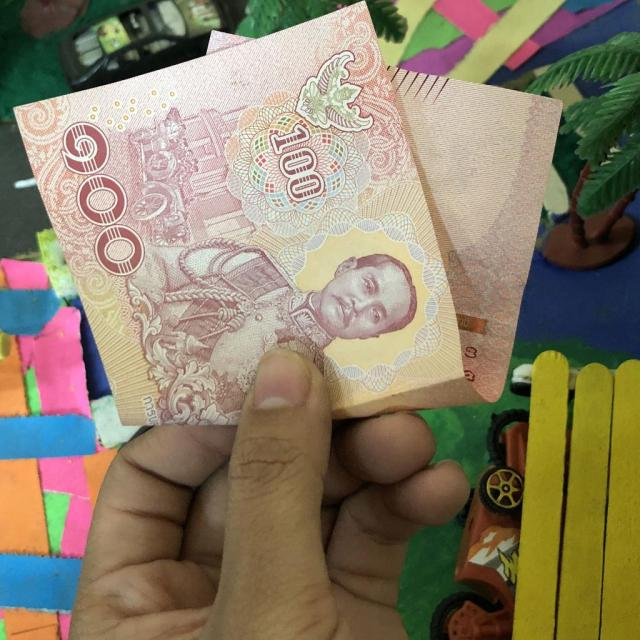THAI100: (16, 4, 561, 425)
